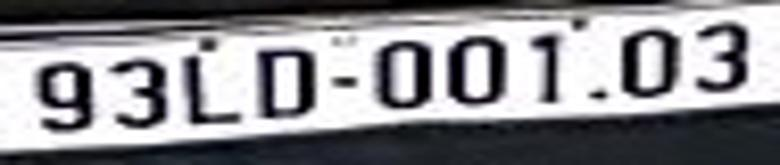-: (332, 77, 355, 88)
.: (592, 90, 604, 99)
0: (621, 30, 679, 98), (375, 40, 430, 109), (449, 36, 504, 104)
1: (533, 34, 560, 105)
3: (113, 58, 166, 127), (697, 25, 745, 93)
9: (38, 59, 92, 133)
D: (257, 50, 313, 114)
L: (182, 56, 238, 123)
